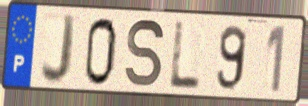0: (83, 16, 120, 88)
1: (263, 23, 286, 97)
9: (214, 23, 248, 92)
J: (39, 11, 79, 87)
L: (167, 19, 203, 91)
S: (124, 16, 167, 90)
